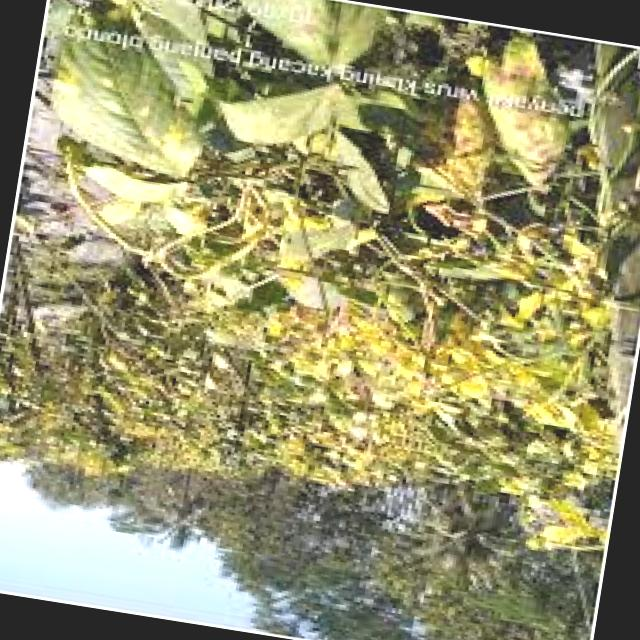yellowish leaf: (223, 136, 640, 554)
